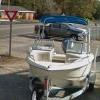Boat: (24, 13, 95, 99)
